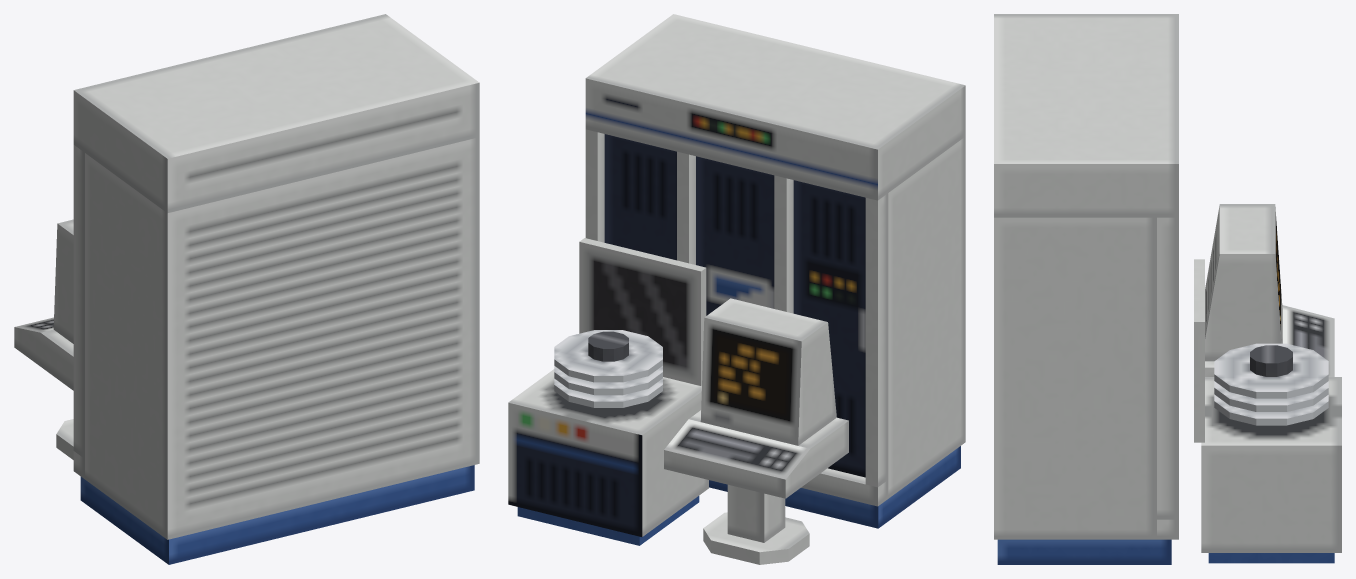
The model's file is era4_disk_mainframe.obj.
The picture shows the model from 3 angles, left to right: view 1: azimuth 30°, elevation 25°; view 2: azimuth 150°, elevation 25°; view 3: azimuth 270°, elevation 25°; orthographic projection. The views are drawn at different scales.
Visible parts, largest first — view 1: era4_disk_mainframe; view 2: era4_disk_mainframe; view 3: era4_disk_mainframe.
Boxes of the visible parts, left/top/right/bottom form: era4_disk_mainframe: left=14, top=14, right=479, bottom=564; era4_disk_mainframe: left=508, top=14, right=965, bottom=564; era4_disk_mainframe: left=994, top=14, right=1341, bottom=564.
Size of the model in its own units: 3 by 3.75 by 2.94.
